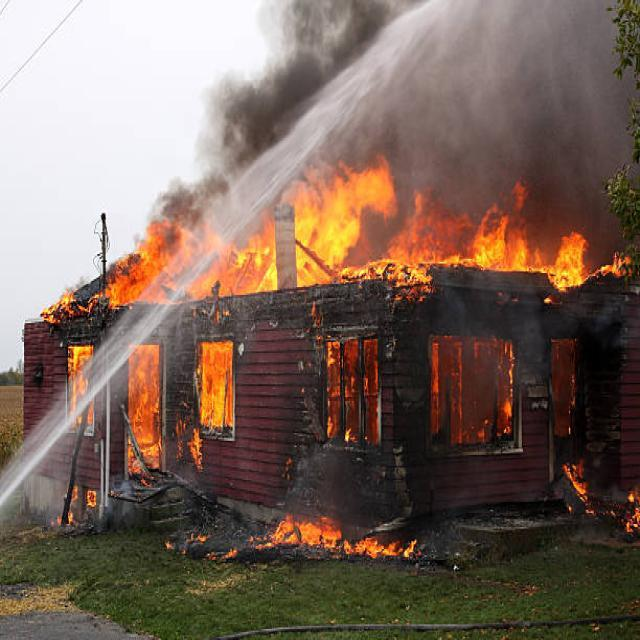Fire: (294, 171, 598, 281), (122, 230, 274, 298), (268, 502, 408, 565), (132, 344, 168, 455), (206, 344, 236, 436), (72, 350, 100, 422)
Smoke: (278, 2, 634, 200), (212, 100, 285, 208)
